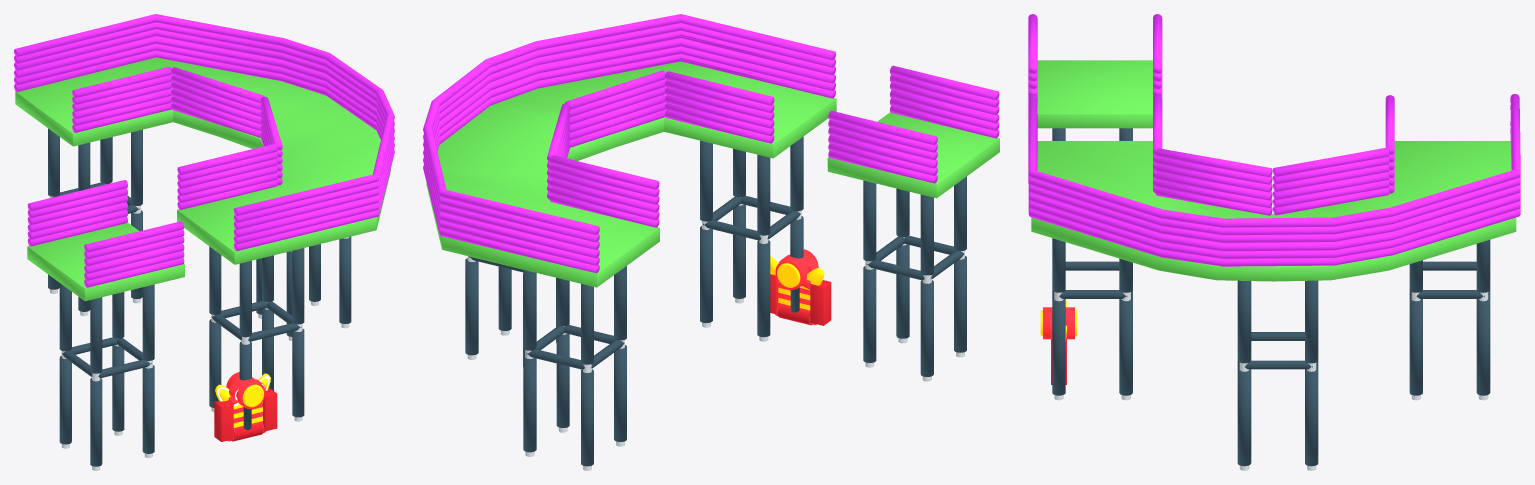
Rendered from CorridaTexturas.fbx.
3 views of the same model, side by side, from view 1: azimuth 30°, elevation 25°; view 2: azimuth 150°, elevation 25°; view 3: azimuth 270°, elevation 25° (orthographic). The views are drawn at different scales.
Visible parts, largest first — view 1: Top.002, Barriers.006, Barriers.003, SupportLarge, SupportLarge.001, Barriers.007, Barriers, Top, SupportLarge.002, SupportLarge.003, Barriers.008, Barriers.009 (+12 smaller); view 2: Top.002, Barriers.006, Barriers.003, SupportLarge, SupportLarge.002, SupportLarge.001, Barriers.007, Barriers, Top, Barriers.009, Barriers.008, Barriers.001 (+13 smaller); view 3: Top.002, Barriers.006, Barriers.003, Top, SupportLarge.003, SupportLarge.002, SupportLarge.001, Barriers.011, Barriers.010, Barriers.005, Barriers.002, Barriers.007 (+6 smaller).
Boxes of the visible parts, x1,y1,x2,y2 form: Top.002: [15, 57, 390, 264]; Barriers.006: [14, 14, 394, 229]; Barriers.003: [14, 36, 394, 251]; SupportLarge: [59, 283, 154, 466]; SupportLarge.001: [209, 246, 304, 429]; Barriers.007: [27, 180, 184, 266]; Barriers: [27, 202, 184, 287]; Top: [27, 222, 184, 301]; SupportLarge.002: [48, 128, 142, 311]; SupportLarge.003: [256, 236, 351, 336]; Barriers.008: [177, 143, 277, 188]; Barriers.009: [72, 66, 171, 111]; Top.002: [426, 61, 836, 287]; Barriers.006: [423, 14, 835, 249]; Barriers.003: [423, 38, 835, 273]; SupportLarge: [863, 176, 966, 376]; SupportLarge.002: [523, 266, 626, 466]; SupportLarge.001: [700, 136, 803, 337]; Barriers.007: [828, 65, 999, 160]; Barriers: [828, 90, 999, 183]; Top: [827, 112, 999, 198]; Barriers.009: [550, 155, 659, 204]; Barriers.008: [665, 71, 774, 120]; Barriers.001: [665, 95, 774, 143]; Top.002: [1031, 141, 1516, 281]; Barriers.006: [1028, 94, 1520, 242]; Barriers.003: [1028, 121, 1520, 266]; Top: [1037, 60, 1152, 128]; SupportLarge.003: [1237, 280, 1318, 466]; SupportLarge.002: [1409, 240, 1490, 395]; SupportLarge.001: [1052, 238, 1132, 395]; Barriers.011: [1155, 148, 1272, 192]; Barriers.010: [1273, 147, 1389, 192]; Barriers.005: [1155, 172, 1272, 215]; Barriers.002: [1273, 172, 1389, 215]; Barriers.007: [1028, 14, 1162, 89].
Bounding box in the file's own units: 62.01 × 37.36 × 62.04.
